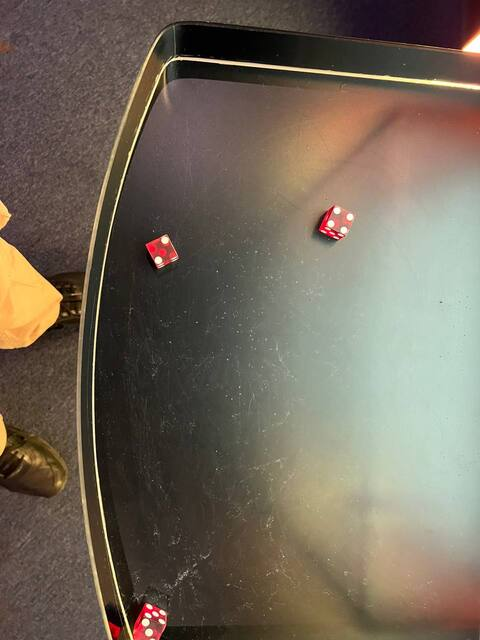four: (322, 203, 357, 237)
two: (144, 231, 178, 266)
